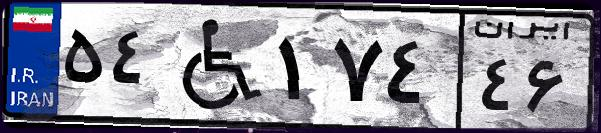1: (270, 28, 330, 110)
4: (385, 28, 445, 110), (475, 38, 525, 113), (110, 28, 158, 98)
5: (57, 26, 110, 100)
6: (525, 38, 570, 115)
7: (330, 28, 385, 110)
ژ (معلولین و جانبازان): (158, 12, 270, 120)
